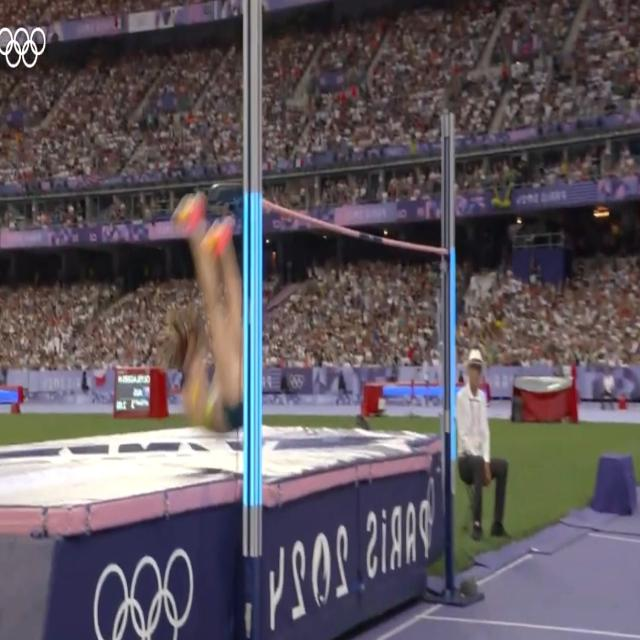land: (164, 195, 243, 430)
